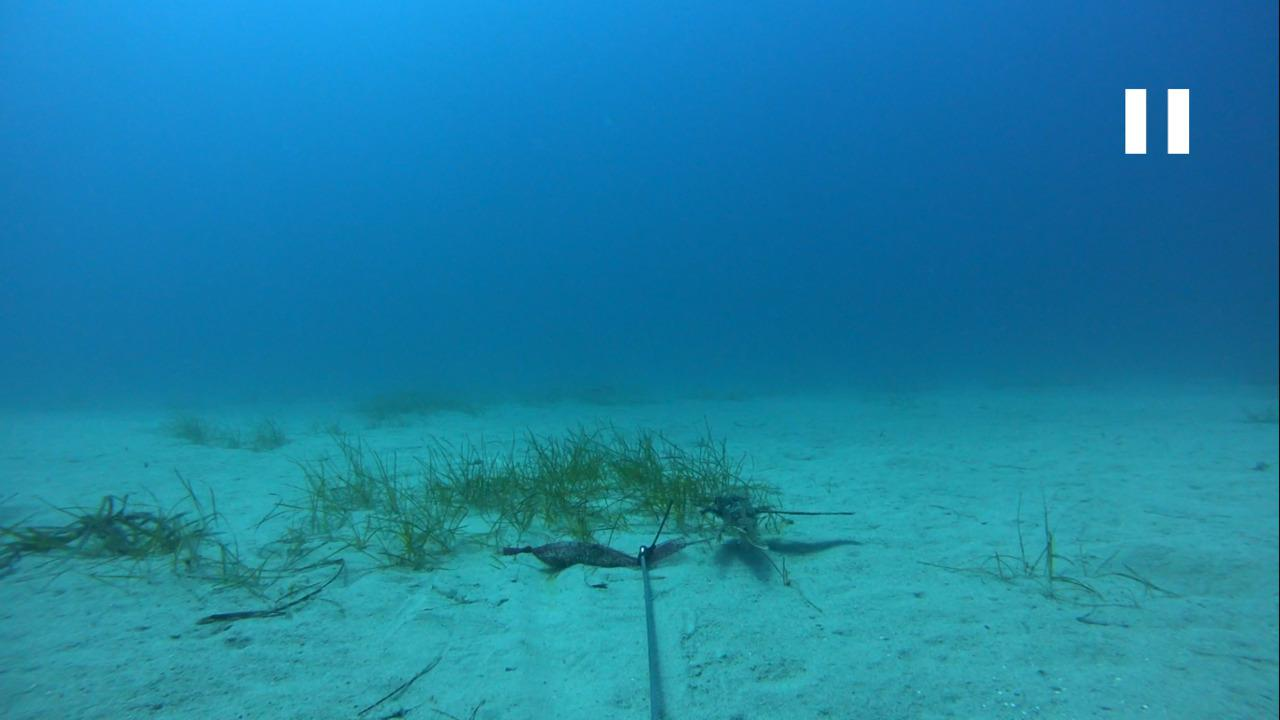dactylopterus: (686, 484, 860, 572)
